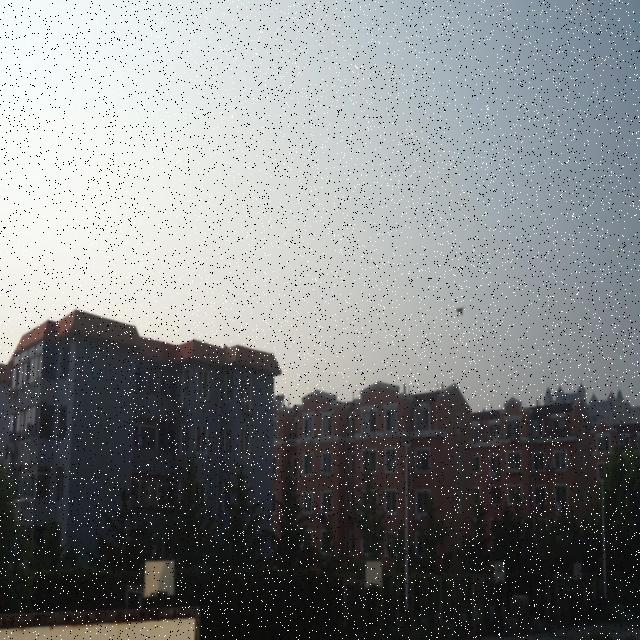UAV: (455, 306, 466, 317)
